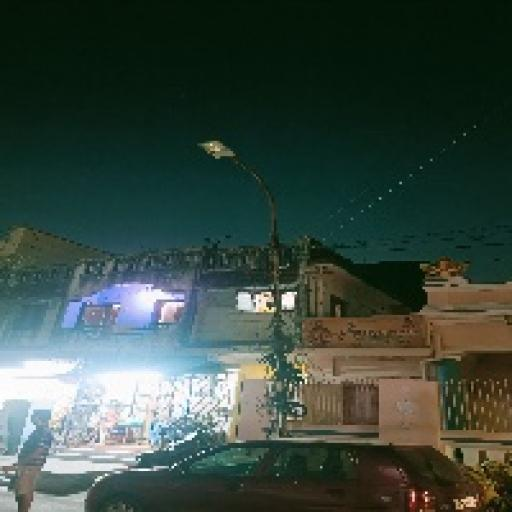Not Working: (191, 130, 241, 174)
